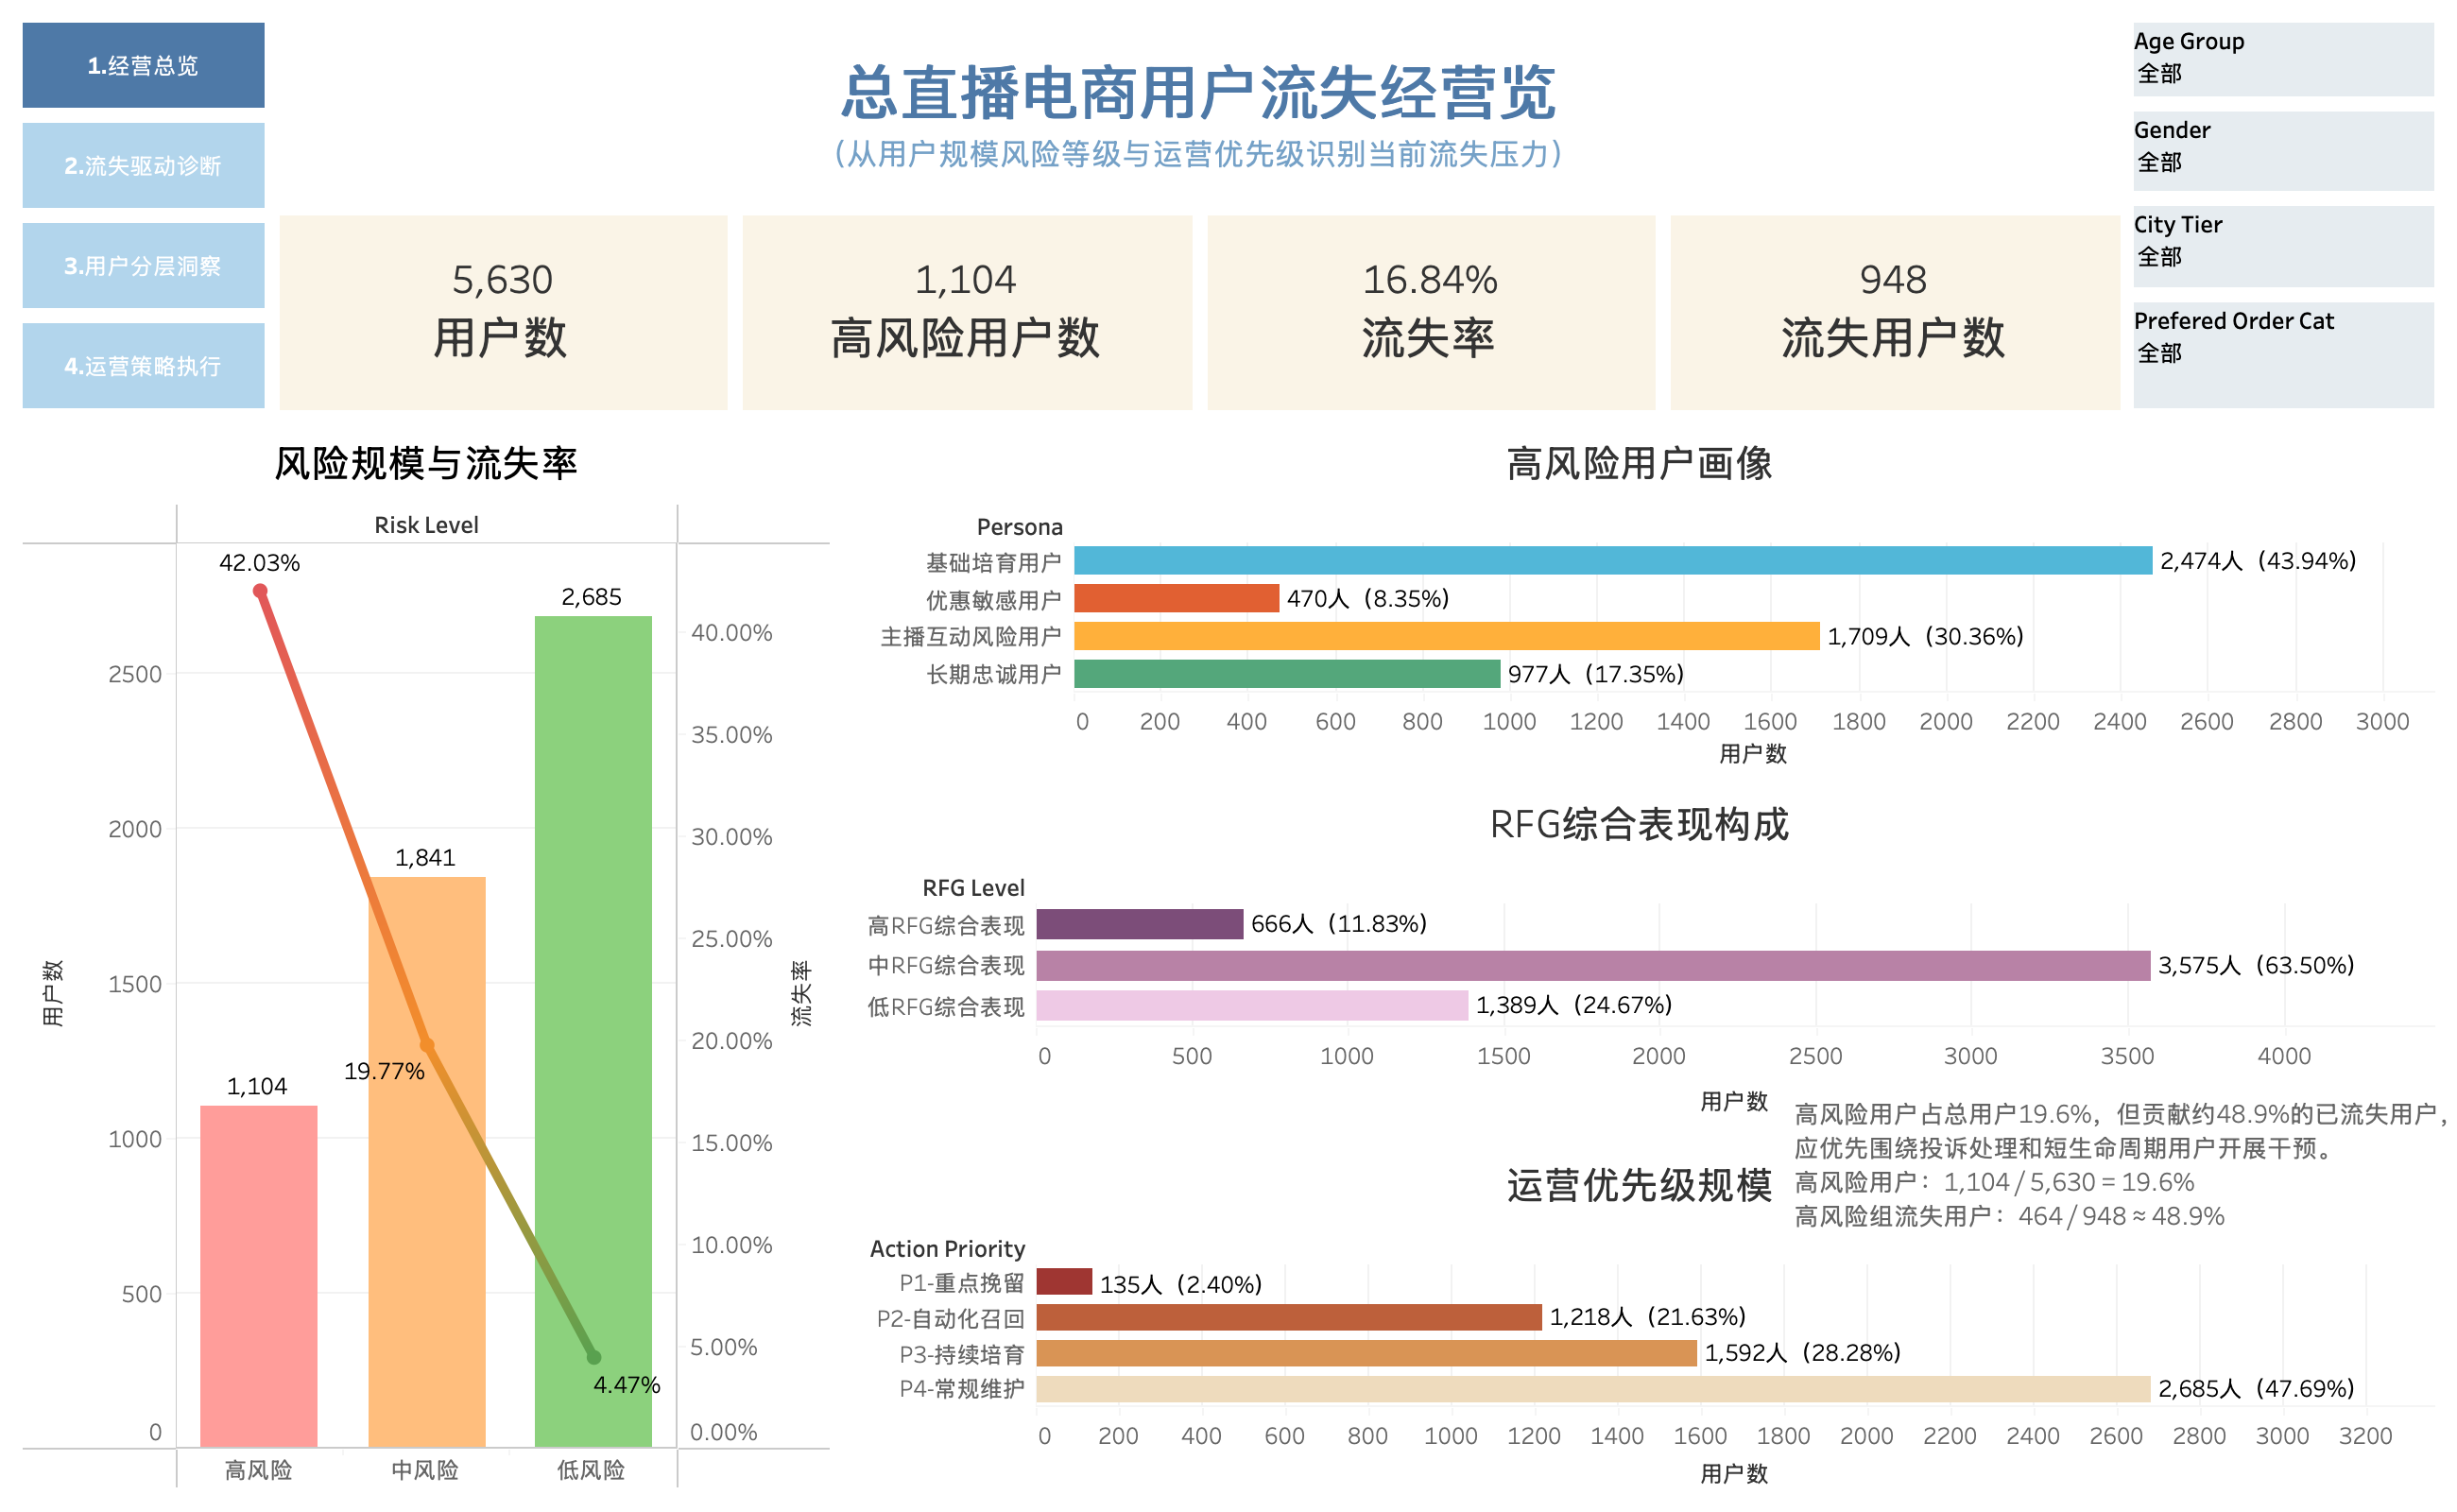

Layout of this report page (visuals, bound fields, positions):
{"tool":"tableau","page":{"name":"DB1 经营总览","canvas":[1300,800],"ordinal":0},"visuals":[{"type":"dashboard-object","box":[8,8,136,53]},{"type":"title","box":[144,8,981,102]},{"type":"filter","title":"1.1 风险规模与流失率","param":"[federated.03efwru1xseoi915distb0ypb5b5].[none:AgeGroup:ok]","box":[1125,8,167,47]},{"type":"filter","title":"1.1 风险规模与流失率","param":"[federated.03efwru1xseoi915distb0ypb5b5].[none:Gender:nk]","box":[1125,55,167,49.9]},{"type":"dashboard-object","box":[8,61,136,53]},{"type":"filter","title":"1.1 风险规模与流失率","param":"[federated.03efwru1xseoi915distb0ypb5b5].[none:CityTier:ok]","box":[1125,104.9,167,51.1]},{"type":"worksheet","title":"用户数KPI","mark":"Automatic","box":[144,109.6,245.2,110.4]},{"type":"worksheet","title":"高风险用户数KPI","mark":"Automatic","box":[389.2,109.6,245.3,110.4]},{"type":"worksheet","title":"流失率KPI","mark":"Automatic","box":[634.5,109.6,245.2,110.4]},{"type":"worksheet","title":"流失用户数KPI","mark":"Automatic","box":[879.7,109.6,245.3,110.4]},{"type":"dashboard-object","box":[8,114,136,53]},{"type":"filter","title":"1.1 风险规模与流失率","param":"[federated.03efwru1xseoi915distb0ypb5b5].[none:PreferedOrderCat:nk]","box":[1125,156,167,64]},{"type":"dashboard-object","box":[8,167,136,53]},{"type":"worksheet","title":"1.1 风险规模与流失率","mark":"Automatic","rows":["Calculation_0426848958726145","Calculation_0426848959488003"],"cols":["RiskLevel"],"box":[8,220,436,572]},{"type":"worksheet","title":"1.2高风险用户画像构成","mark":"Bar","rows":["Persona"],"cols":["Calculation_0426848958726145"],"box":[444,220,848,191]},{"type":"worksheet","title":"1.4RFG增长构成","mark":"Automatic","rows":["RFG_Level"],"cols":["Calculation_0426848958726145"],"box":[444,411,848,191]},{"type":"worksheet","title":"1.3运营优先级规模","mark":"Automatic","rows":["ActionPriority"],"cols":["Calculation_0426848958726145"],"box":[444,602,848,190]}]}

Visuals, with their boxes in screenshot pixels (x1, y1, x2, y2), scaled from the page's 1300x800 canvas onto the 2457x1512 screenshot:
dashboard-object: <bbox>15, 15, 272, 115</bbox>
title: <bbox>272, 15, 2126, 208</bbox>
"1.1 风险规模与流失率" filter: <bbox>2126, 15, 2442, 104</bbox>
"1.1 风险规模与流失率" filter: <bbox>2126, 104, 2442, 198</bbox>
dashboard-object: <bbox>15, 115, 272, 215</bbox>
"1.1 风险规模与流失率" filter: <bbox>2126, 198, 2442, 295</bbox>
"用户数KPI" worksheet: <bbox>272, 207, 735, 416</bbox>
"高风险用户数KPI" worksheet: <bbox>735, 207, 1199, 416</bbox>
"流失率KPI" worksheet: <bbox>1199, 207, 1662, 416</bbox>
"流失用户数KPI" worksheet: <bbox>1662, 207, 2126, 416</bbox>
dashboard-object: <bbox>15, 215, 272, 316</bbox>
"1.1 风险规模与流失率" filter: <bbox>2126, 295, 2442, 416</bbox>
dashboard-object: <bbox>15, 316, 272, 416</bbox>
"1.1 风险规模与流失率" worksheet: <bbox>15, 416, 839, 1497</bbox>
"1.2高风险用户画像构成" worksheet (Bar marks): <bbox>839, 416, 2442, 777</bbox>
"1.4RFG增长构成" worksheet: <bbox>839, 777, 2442, 1138</bbox>
"1.3运营优先级规模" worksheet: <bbox>839, 1138, 2442, 1497</bbox>
